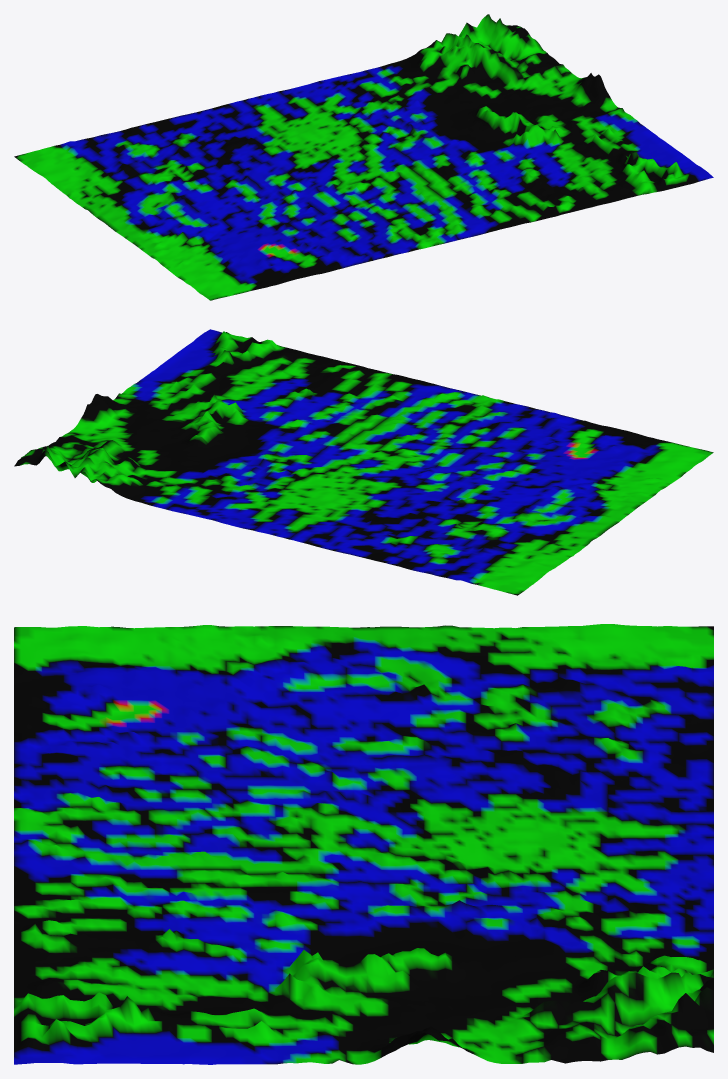
File: Terrain_MainMap_Block_A_04.fbx
The picture shows the model from 3 angles, top to bottom: view 1: azimuth 30°, elevation 25°; view 2: azimuth 150°, elevation 25°; view 3: azimuth 270°, elevation 25°; orthographic projection. The views are drawn at different scales.
Parts seen in each view (by area): view 1: Terrain_MainMap_Block_A_04; view 2: Terrain_MainMap_Block_A_04; view 3: Terrain_MainMap_Block_A_04.
Boxes of the visible parts, x1,y1,x2,y2 form: Terrain_MainMap_Block_A_04: [14, 14, 713, 300]; Terrain_MainMap_Block_A_04: [14, 329, 713, 595]; Terrain_MainMap_Block_A_04: [14, 624, 713, 1064].
Size of the model in its own units: 40000 by 2247 by 27000.
